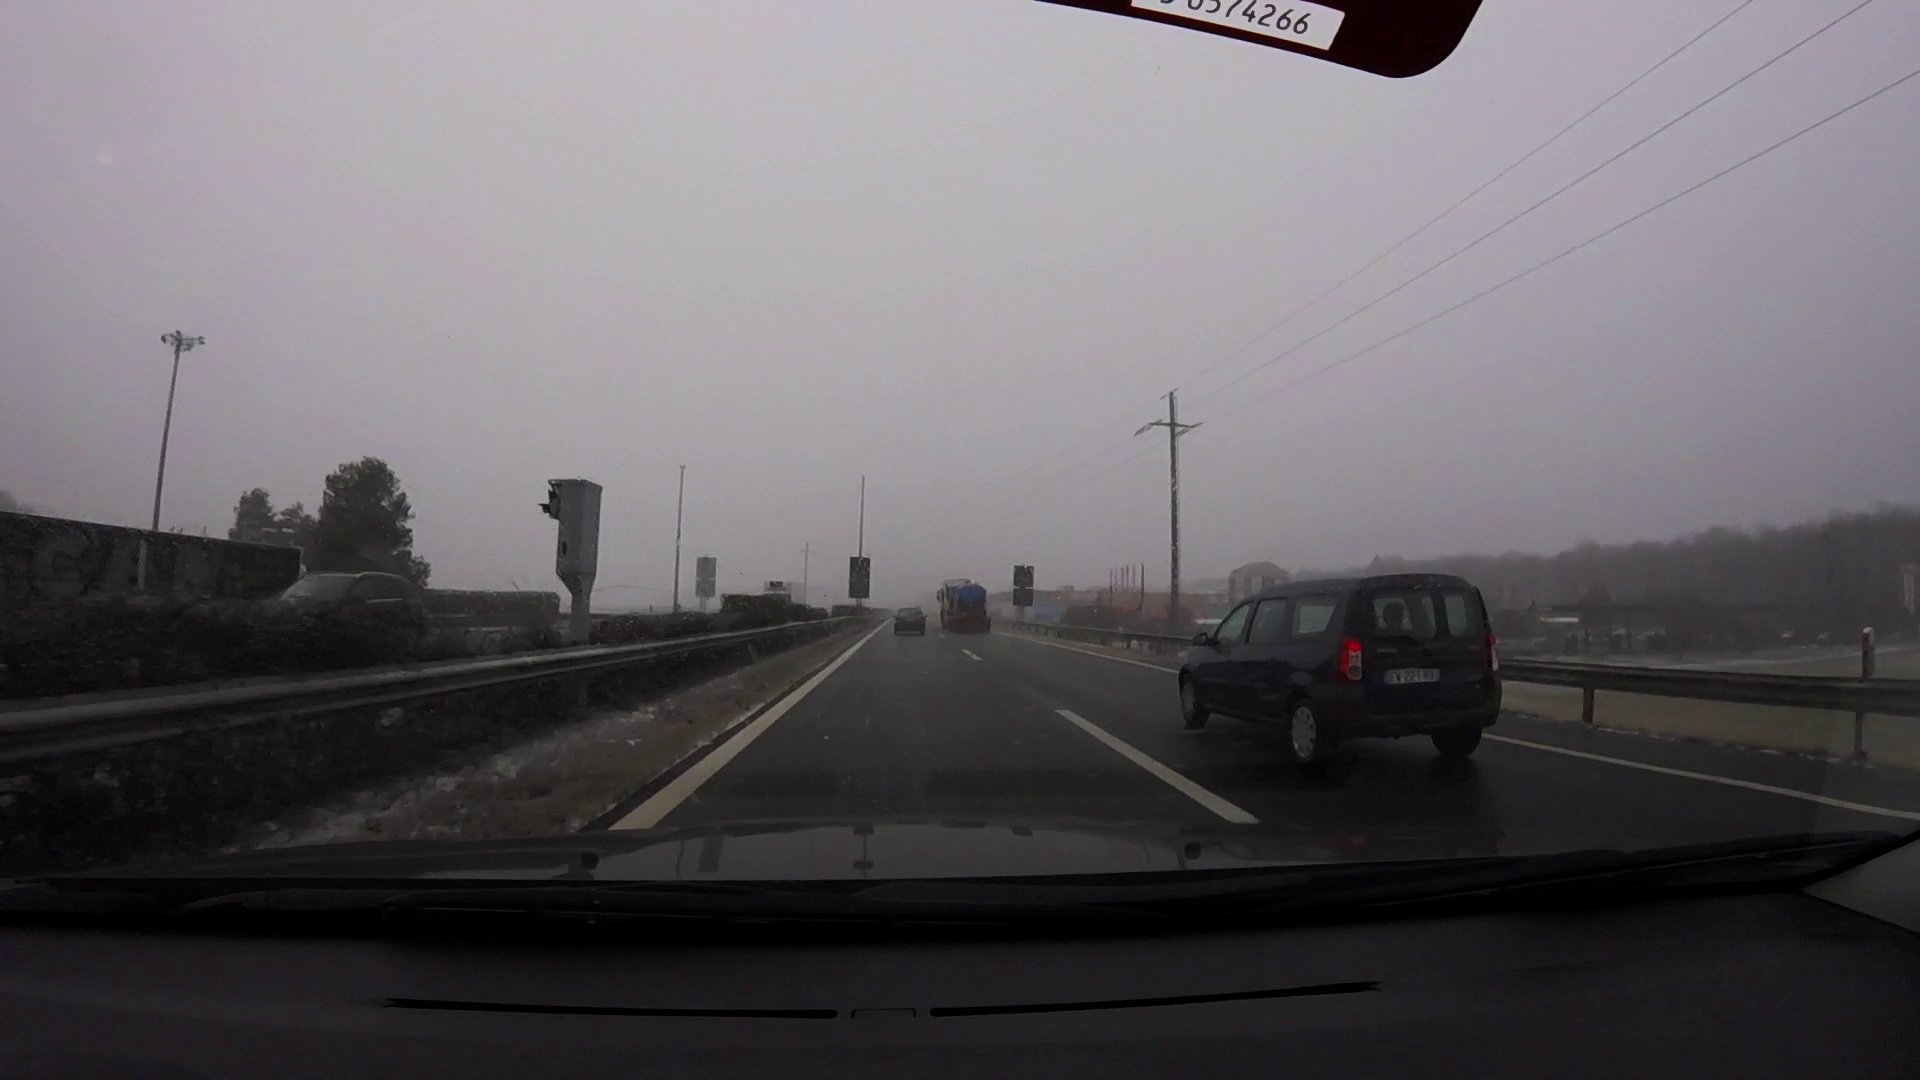radar: (535, 476, 608, 613)
